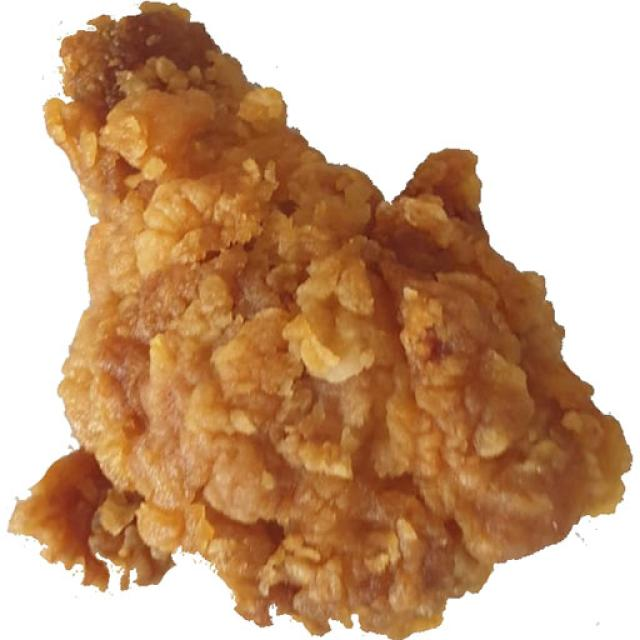Frango: (47, 59, 557, 594)
